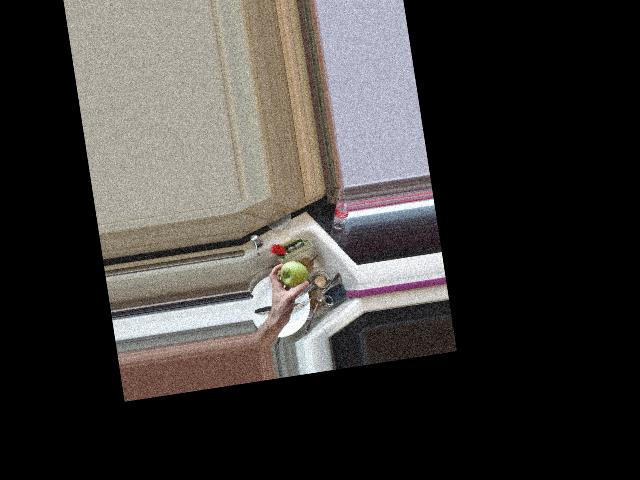apple: (276, 258, 310, 292)
